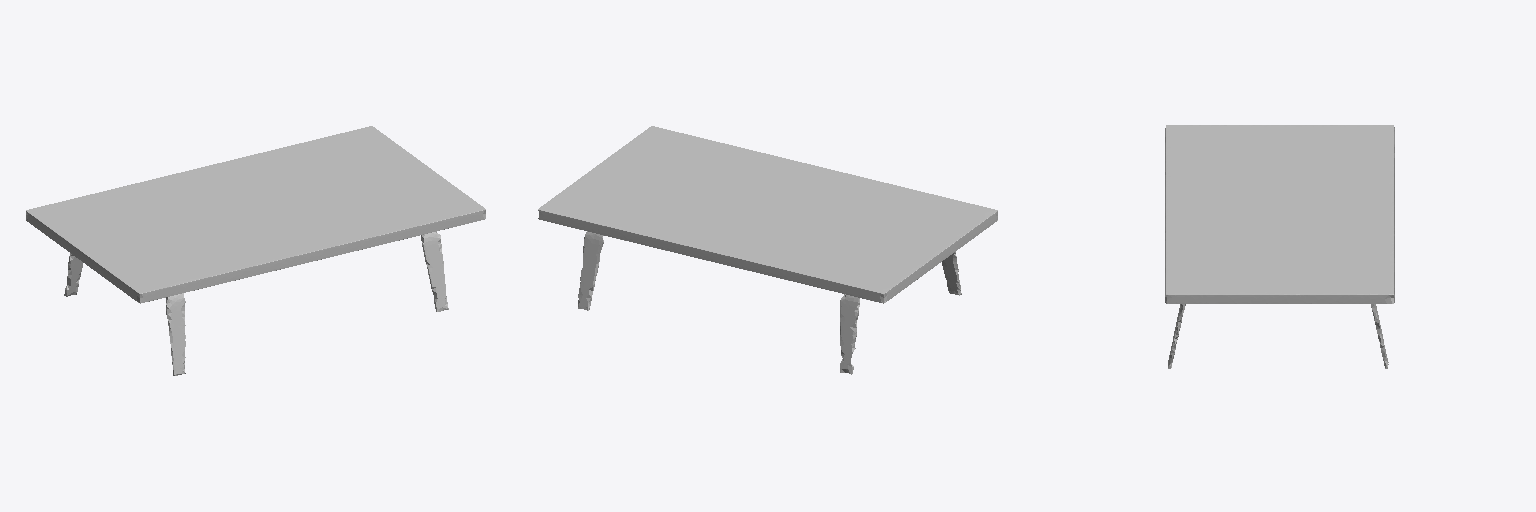
The model's file is desk.obj.
3 renders of one model, left to right at view 1: azimuth 30°, elevation 25°; view 2: azimuth 150°, elevation 25°; view 3: azimuth 270°, elevation 25°, orthographic.
Size of the model in its own units: 1.08 by 0.2754 by 0.6196.